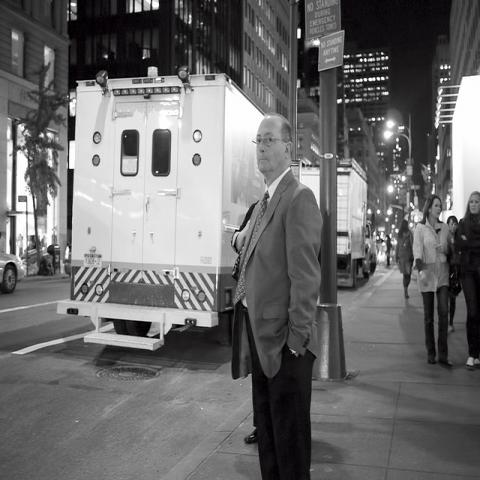car: (0, 251, 25, 292)
truck: (58, 59, 267, 355), (289, 158, 370, 288)
